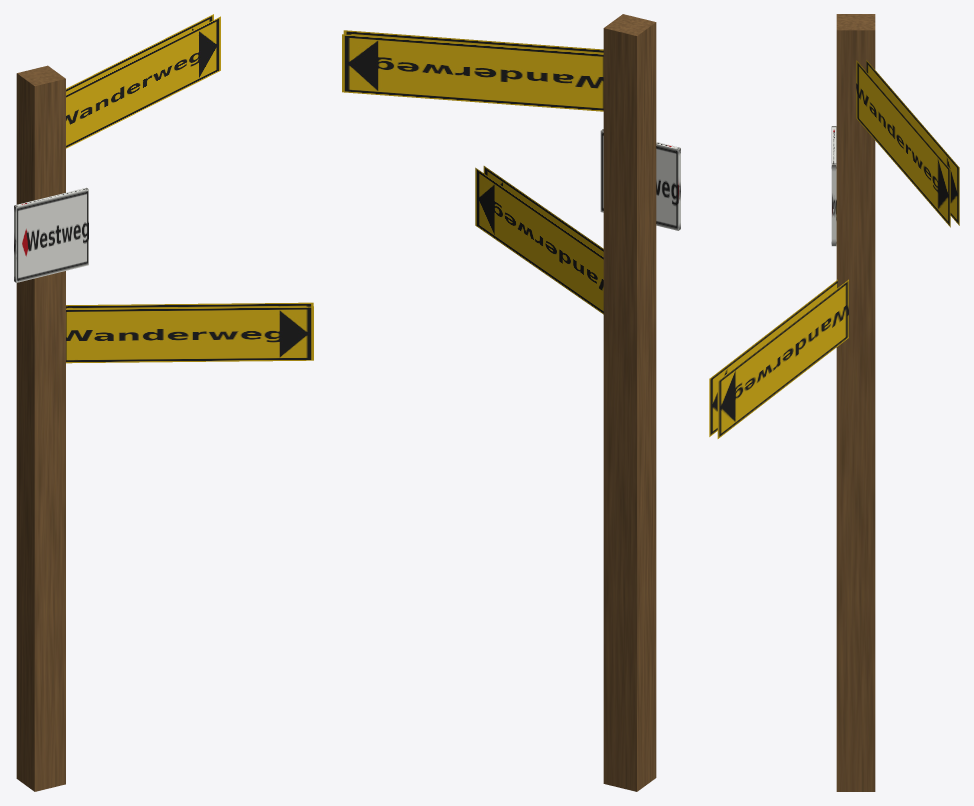
Rendered from SM_signpost_hike.fbx.
The picture shows the model from 3 angles, left to right: view 1: azimuth 30°, elevation 25°; view 2: azimuth 150°, elevation 25°; view 3: azimuth 270°, elevation 25°; orthographic projection. The views are drawn at different scales.
Parts seen in each view (by area): view 1: SM_signpost_hike; view 2: SM_signpost_hike; view 3: SM_signpost_hike.
Part boxes in pixels (left/top/right/bottom): SM_signpost_hike: left=14, top=14, right=313, bottom=791; SM_signpost_hike: left=342, top=14, right=680, bottom=791; SM_signpost_hike: left=709, top=14, right=959, bottom=791.
Bounding box in the file's own units: 1 × 2.6 × 0.7753.
